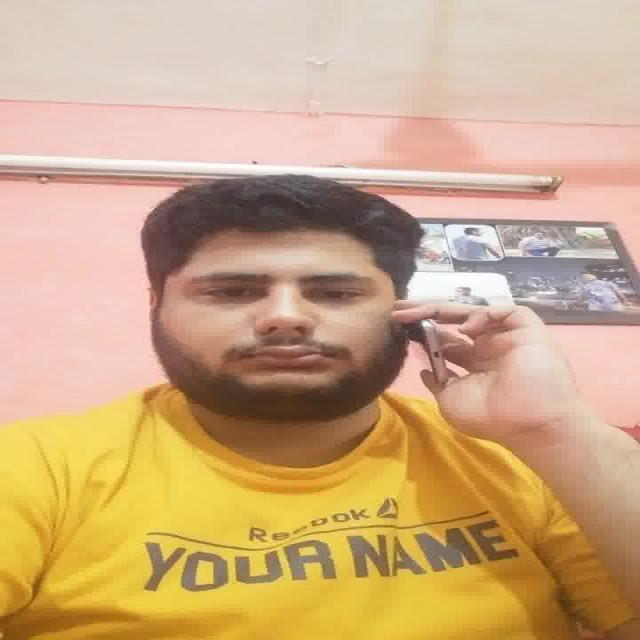Phone: (407, 318, 452, 388)
